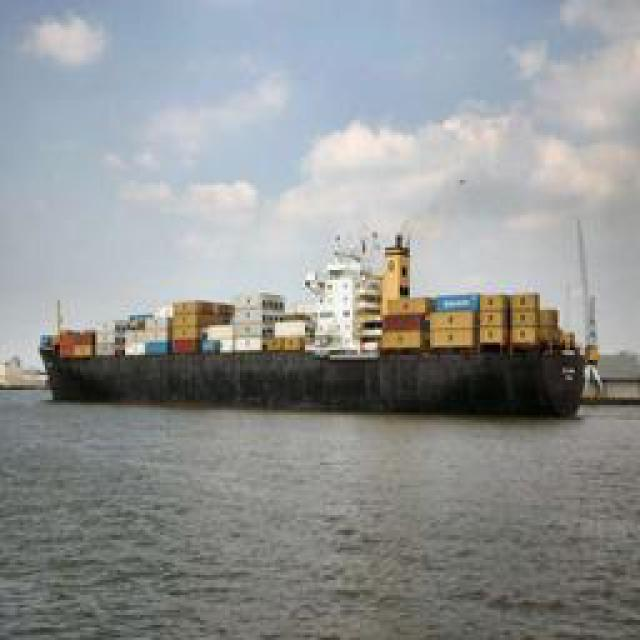Ship: (42, 224, 610, 419)
